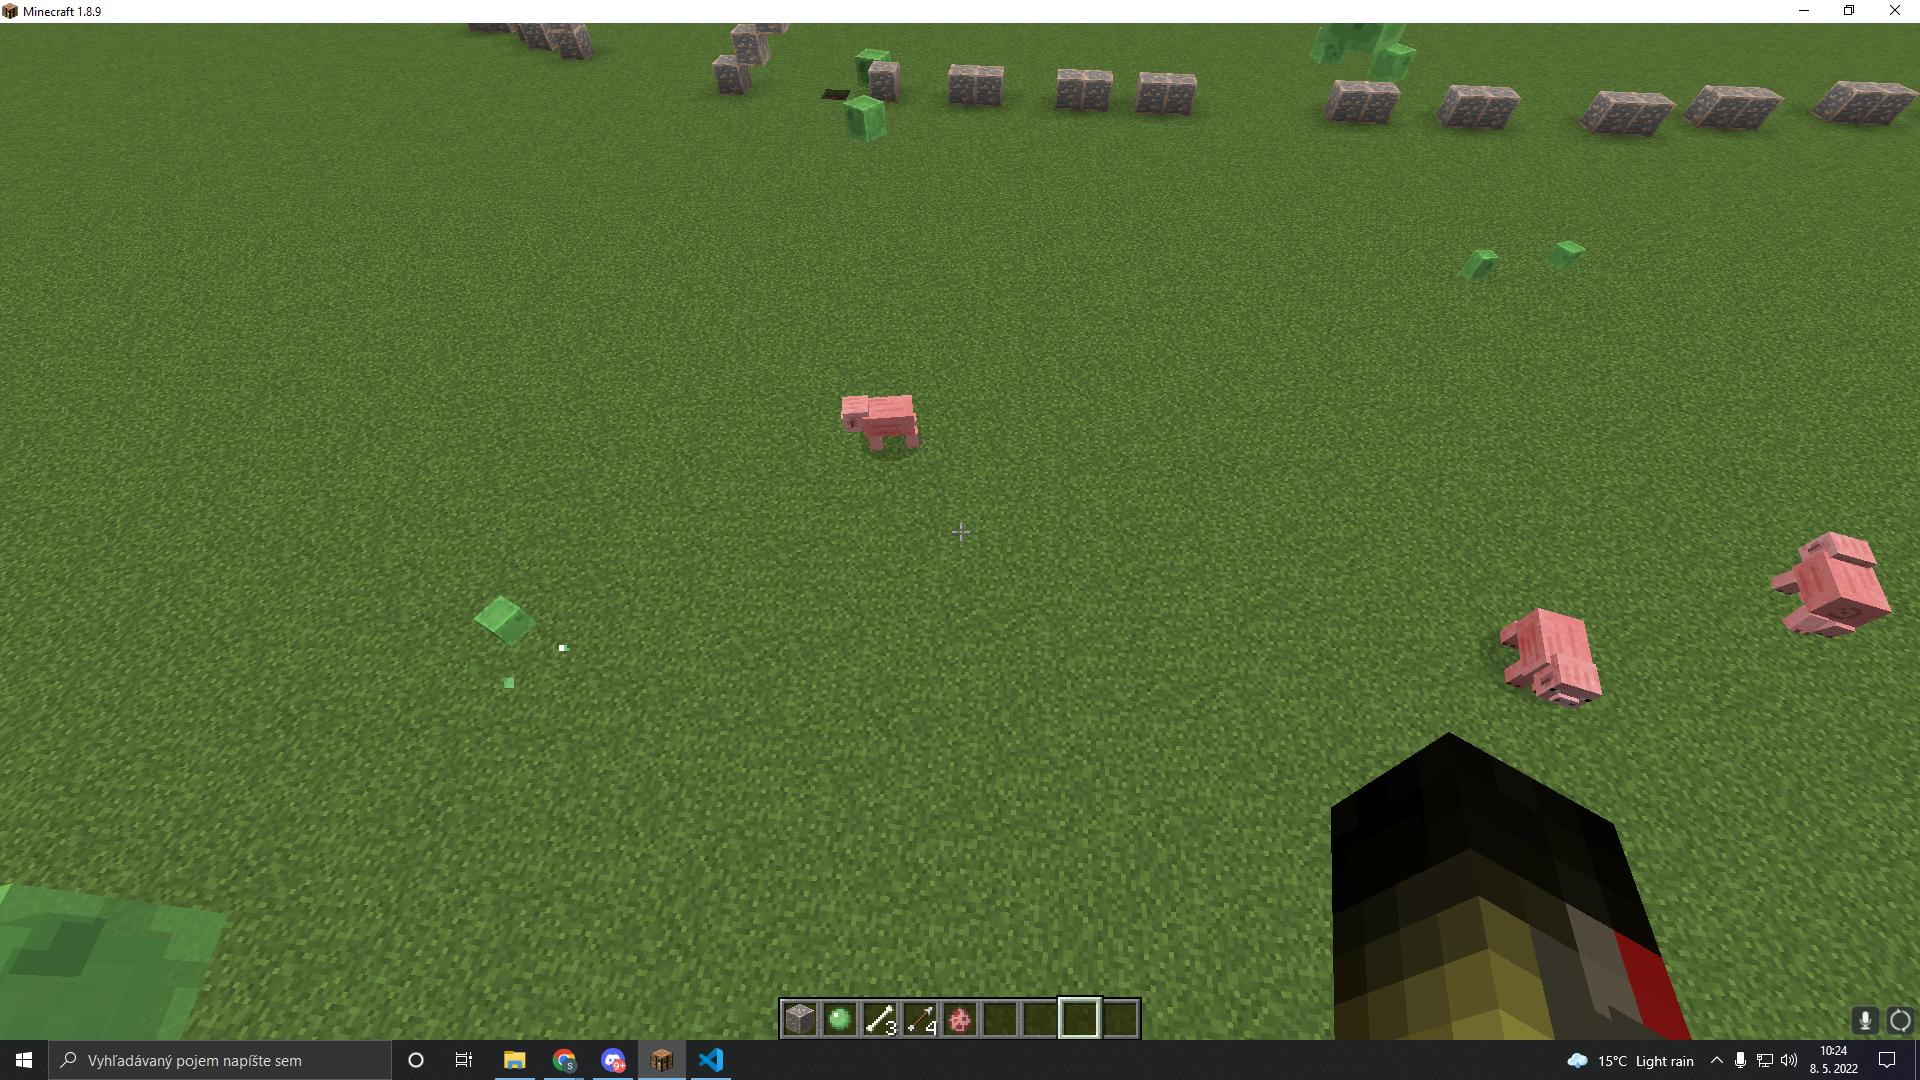pig: (1758, 520, 1902, 674), (1482, 595, 1622, 731), (827, 388, 952, 462)
